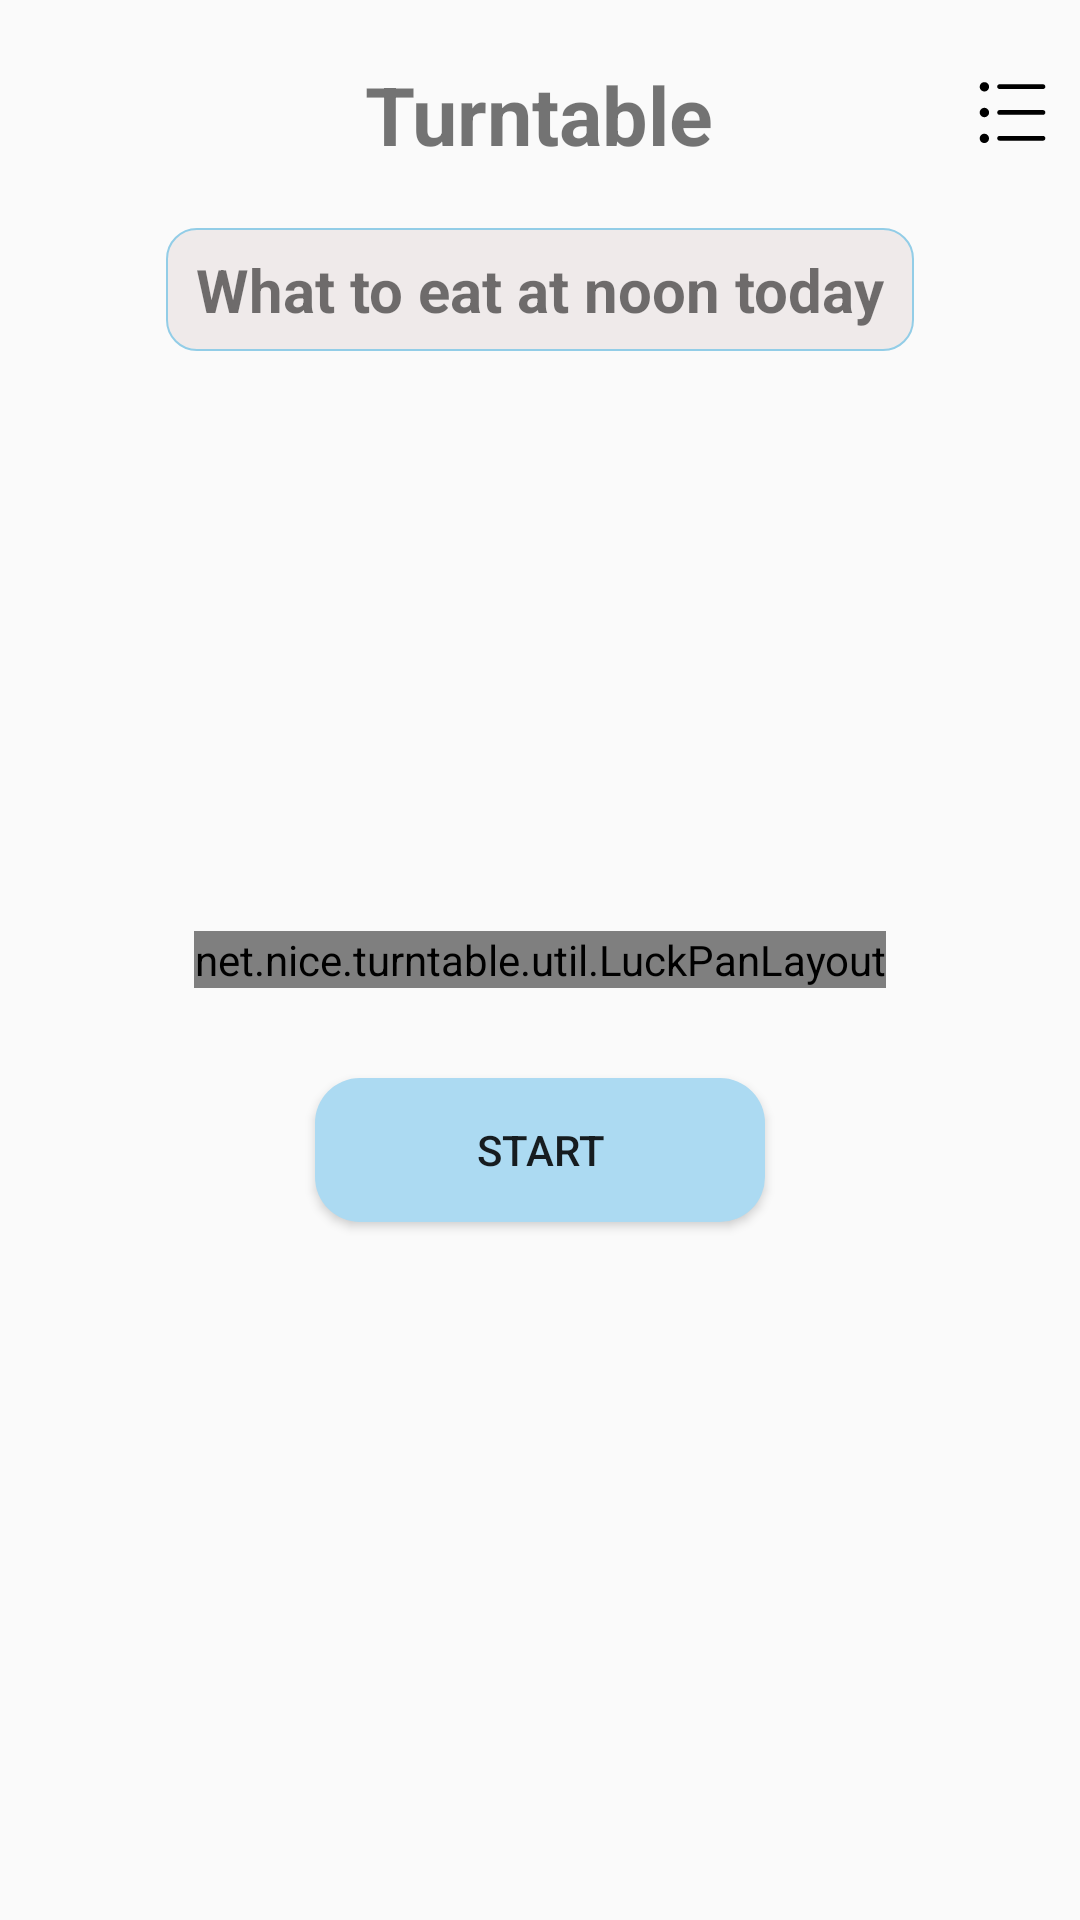

Named icons in this screenshot (1080px×1920px) and their centers, [x,y]:
menu: [1012,112]
